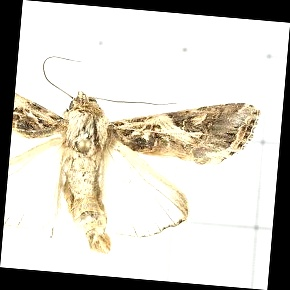Spodoptera litura: (10, 63, 258, 257)
